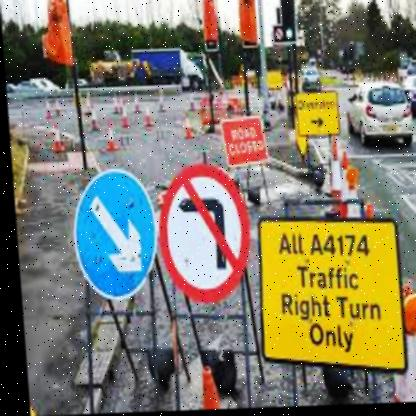No left turn: (156, 172, 245, 293)
